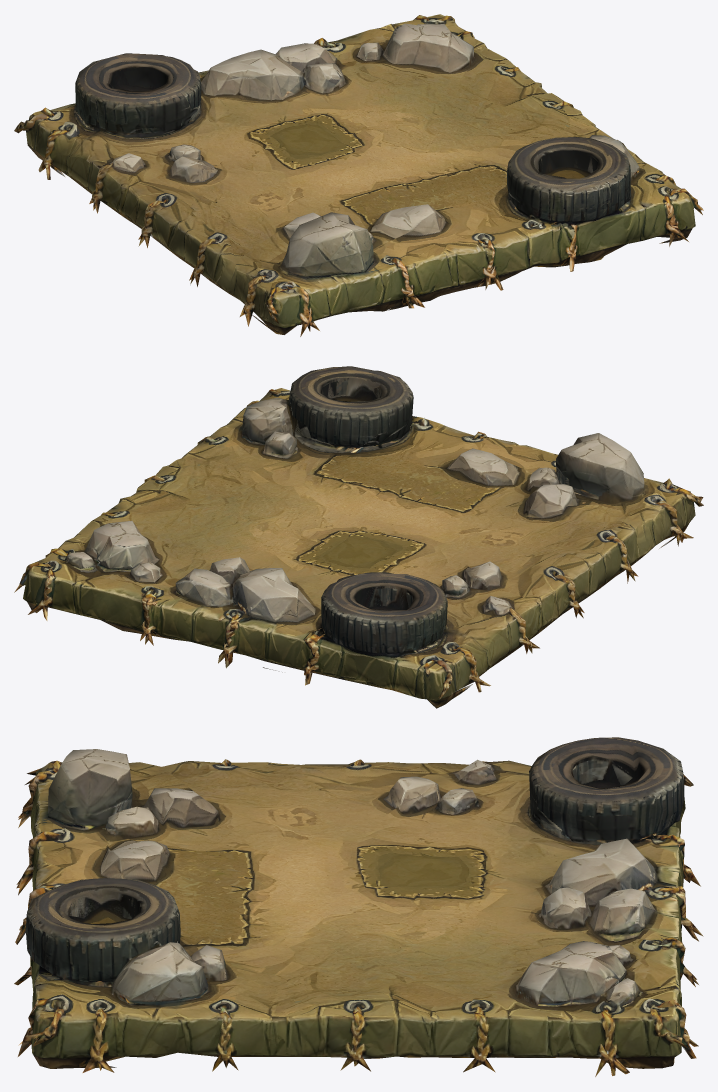
File: Settle_RoofPatch_Tarp.fbx
3 views of the same model, one above another, from view 1: azimuth 30°, elevation 25°; view 2: azimuth 150°, elevation 25°; view 3: azimuth 270°, elevation 25° (orthographic). The views are drawn at different scales.
Parts seen in each view (by area): view 1: texture_mapping; view 2: texture_mapping; view 3: texture_mapping.
Boxes of the visible parts, <box> form: texture_mapping: <box>14,14,703,336</box>; texture_mapping: <box>14,366,703,708</box>; texture_mapping: <box>14,737,703,1076</box>.
Size of the model in its own units: 0.9303 by 0.9843 by 0.1692.
Materials: 1 (1 with a texture image).
